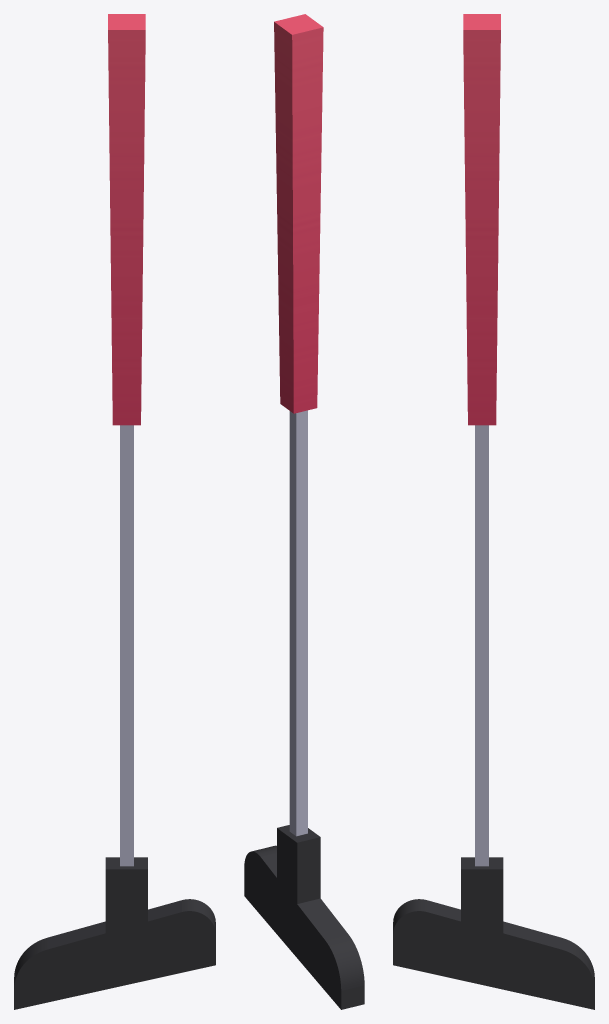
Rendered from club-red.fbx.
3 views of the same model, side by side, from view 1: azimuth 90°, elevation 25°; view 2: azimuth 210°, elevation 25°; view 3: azimuth 270°, elevation 25° (orthographic). The views are drawn at different scales.
Parts seen in each view (by area): view 1: club_red; view 2: club_red; view 3: club_red.
Boxes of the visible parts, <box> form: club_red: <box>14,14,215,1009</box>; club_red: <box>244,14,364,1009</box>; club_red: <box>393,14,594,1009</box>.
Bounding box in the file's own units: 3.45 × 98.99 × 18.44.
